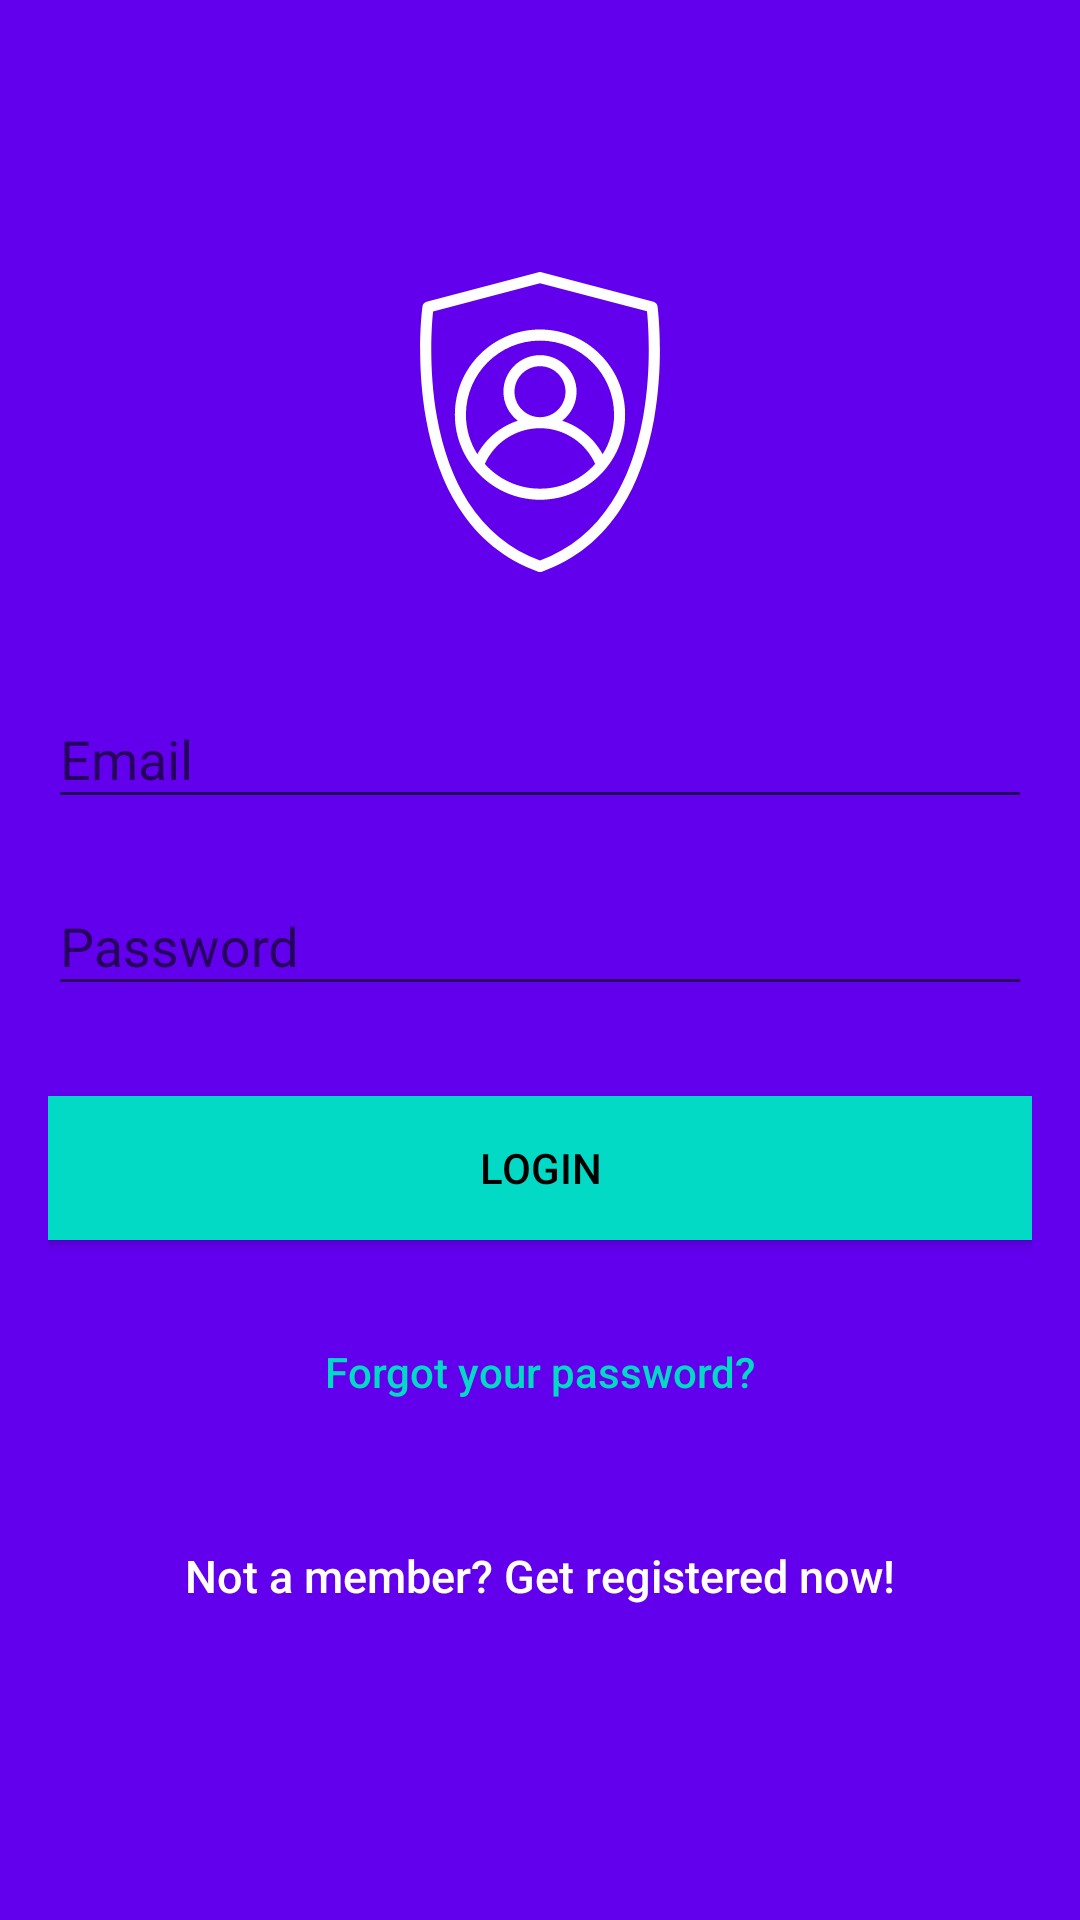

Locate icon controls on the screen. Image size 1080*1920, boxes as bbox(x1, y1, x2, y2).
account: bbox(420, 272, 660, 572)
